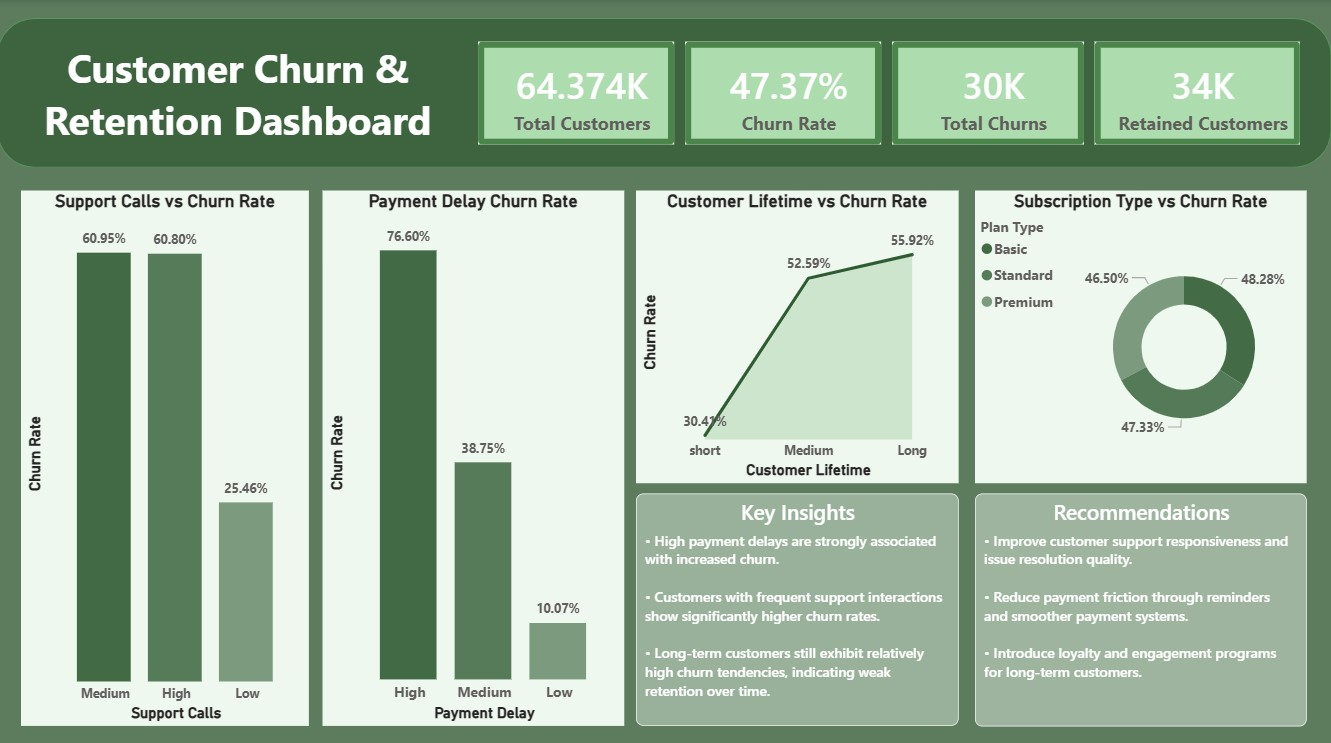

The page's visual inventory and layout, read from the dashboard file:
{"tool":"powerbi","page":{"name":"Page 1","canvas":[1280,720],"ordinal":0},"visuals":[{"type":"shape","box":[0,17,1279.4,143.6],"z":500},{"type":"cardVisual","fields":{"Data":["CountNonNull(cleaned_churn_data.Tenure)"]},"box":[455.4,34,198.4,109.6],"z":750},{"type":"cardVisual","fields":{"Data":["Sum(cleaned_churn_data.Churn)"]},"box":[852.3,34,194.6,109.6],"z":3250},{"type":"cardVisual","fields":{"Data":["cleaned_churn_data.Retained Customers"]},"box":[1046.9,34,207.9,109.6],"z":3375},{"type":"cardVisual","fields":{"Data":["Avg(cleaned_churn_data.Churn)"]},"box":[653.9,34,198.4,109.6],"z":3500},{"type":"textbox","box":[22.7,34,415.8,109.6],"z":3501},{"type":"clusteredColumnChart","title":"Support Calls vs Churn Rate","fields":{"Category":["cleaned_churn_data.Support Group"],"Y":["Avg(cleaned_churn_data.Churn)"]},"box":[23,182.6,276.1,513.4],"z":3502},{"type":"clusteredColumnChart","title":"Payment Delay Churn Rate","fields":{"Y":["Avg(cleaned_churn_data.Churn)"],"Category":["cleaned_churn_data.Payment Group"]},"box":[312.1,182.6,289.1,513.4],"z":3503},{"type":"lineChart","title":"Customer Lifetime vs Churn Rate","fields":{"Category":["cleaned_churn_data.Tenure group"],"Y":["Avg(cleaned_churn_data.Churn)"]},"box":[612.6,182.6,309.2,280.4],"z":3504},{"type":"donutChart","title":"Subscription Type vs Churn Rate","fields":{"Category":["cleaned_churn_data.Subscription Type"],"Y":["Avg(cleaned_churn_data.Churn)"]},"box":[937.6,182.6,317.8,280.4],"z":3505},{"type":"textbox","title":"Key Insights","box":[612.6,473.1,309.2,222.9],"z":3508},{"type":"textbox","title":"Recommendations","box":[938,473,318,223],"z":3509}]}

Visuals, with their boxes in screenshot pixels (x1, y1, x2, y2), scaled from the page's 1280x720 canvas onto the 1331x743 screenshot:
shape: 0, 18, 1330, 166
cardVisual - CountNonNull(cleaned_churn_data.Tenure): 474, 35, 680, 148
cardVisual - Sum(cleaned_churn_data.Churn): 886, 35, 1089, 148
cardVisual - cleaned_churn_data.Retained Customers: 1089, 35, 1305, 148
cardVisual - Avg(cleaned_churn_data.Churn): 680, 35, 886, 148
textbox: 24, 35, 456, 148
"Support Calls vs Churn Rate" clusteredColumnChart: 24, 188, 311, 718
"Payment Delay Churn Rate" clusteredColumnChart: 325, 188, 625, 718
"Customer Lifetime vs Churn Rate" lineChart: 637, 188, 959, 478
"Subscription Type vs Churn Rate" donutChart: 975, 188, 1305, 478
"Key Insights" textbox: 637, 488, 959, 718
"Recommendations" textbox: 975, 488, 1306, 718
